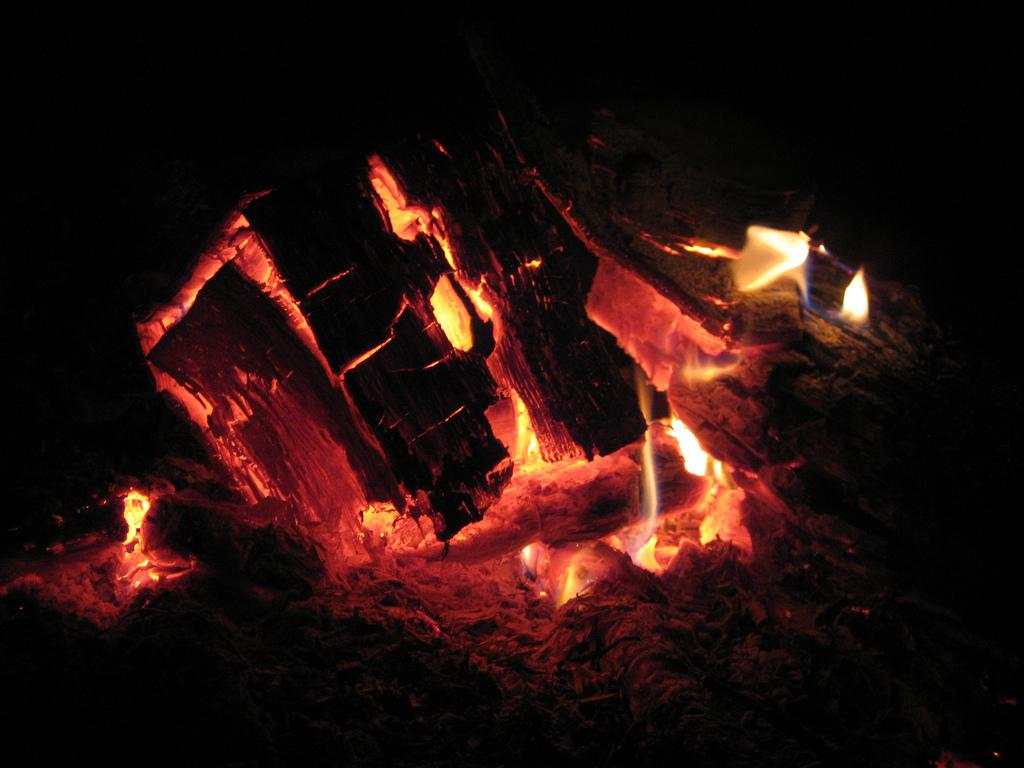fire: (738, 232, 834, 294), (634, 438, 674, 564), (848, 268, 880, 330)
